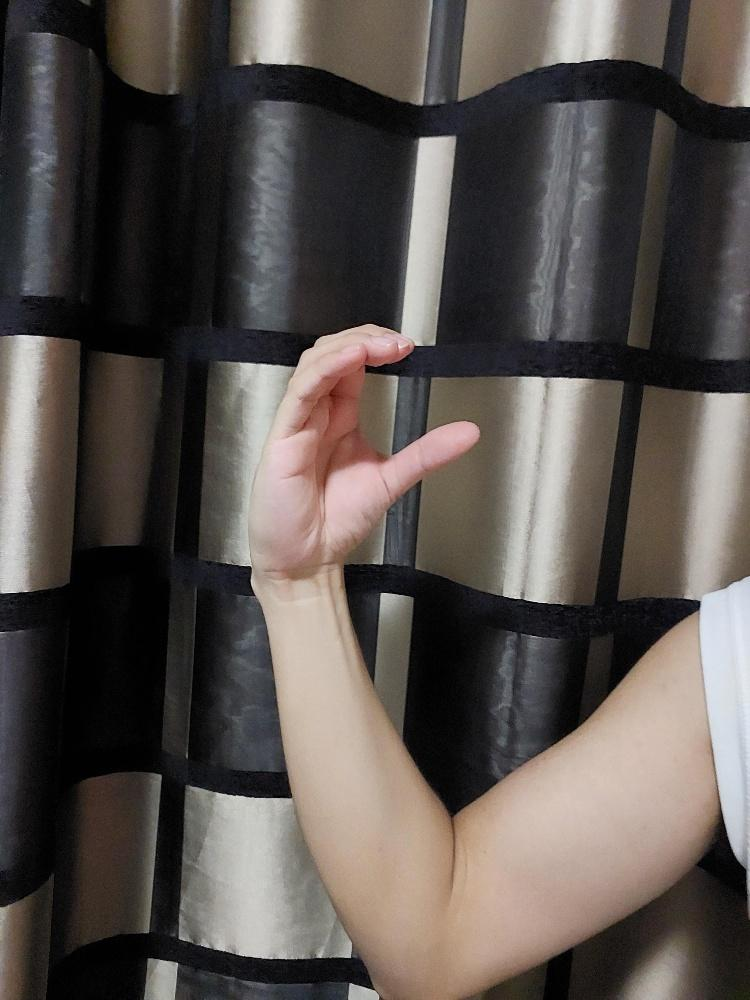c: (245, 321, 481, 585)
